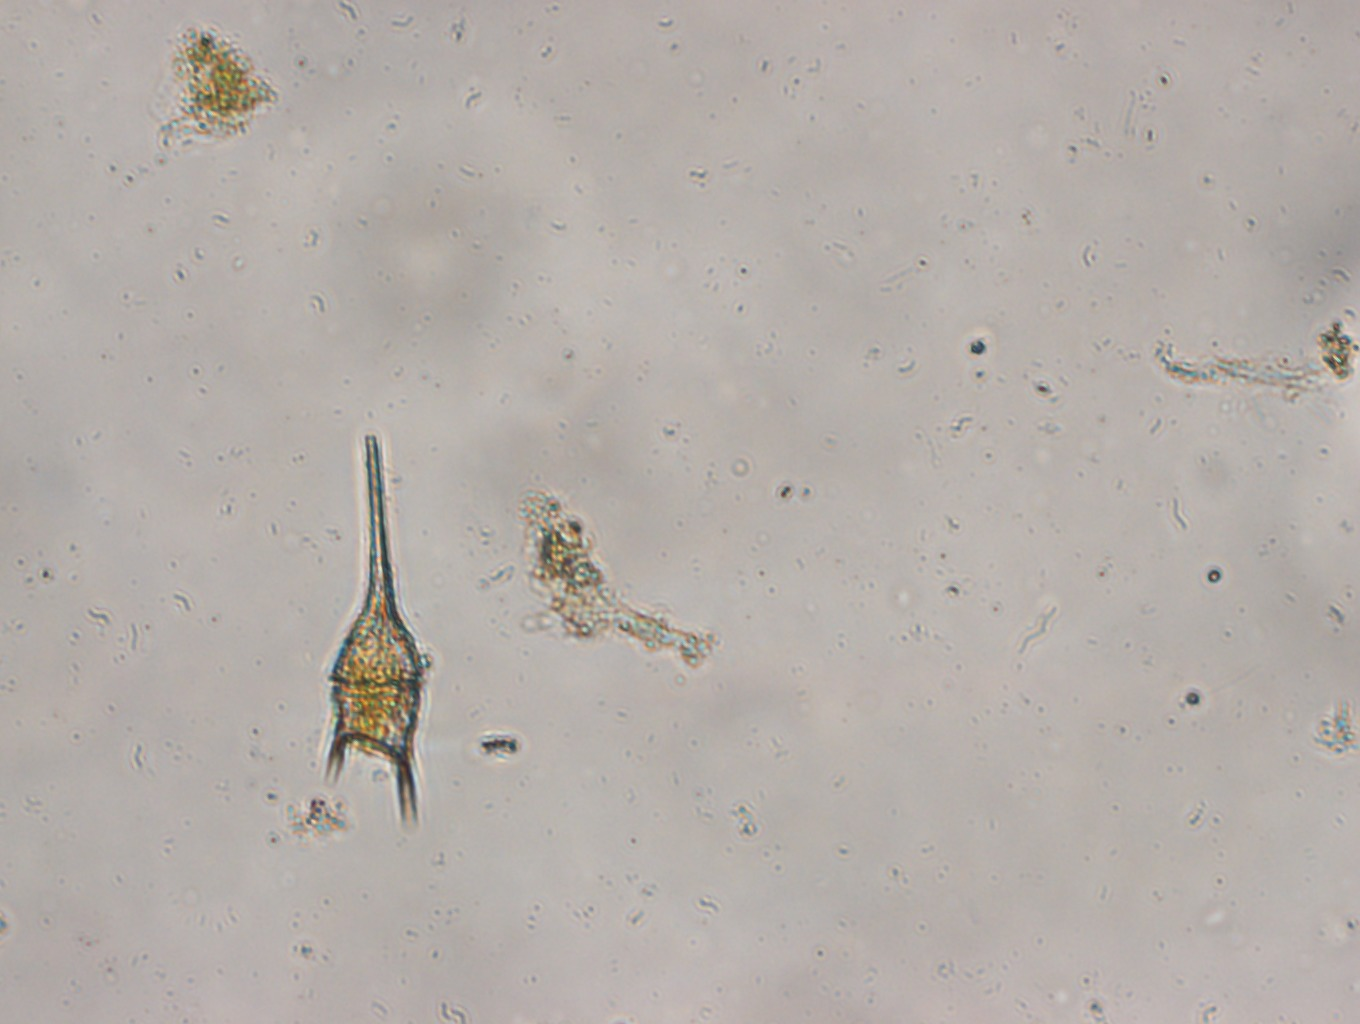ceratium furca: (311, 431, 432, 829)
